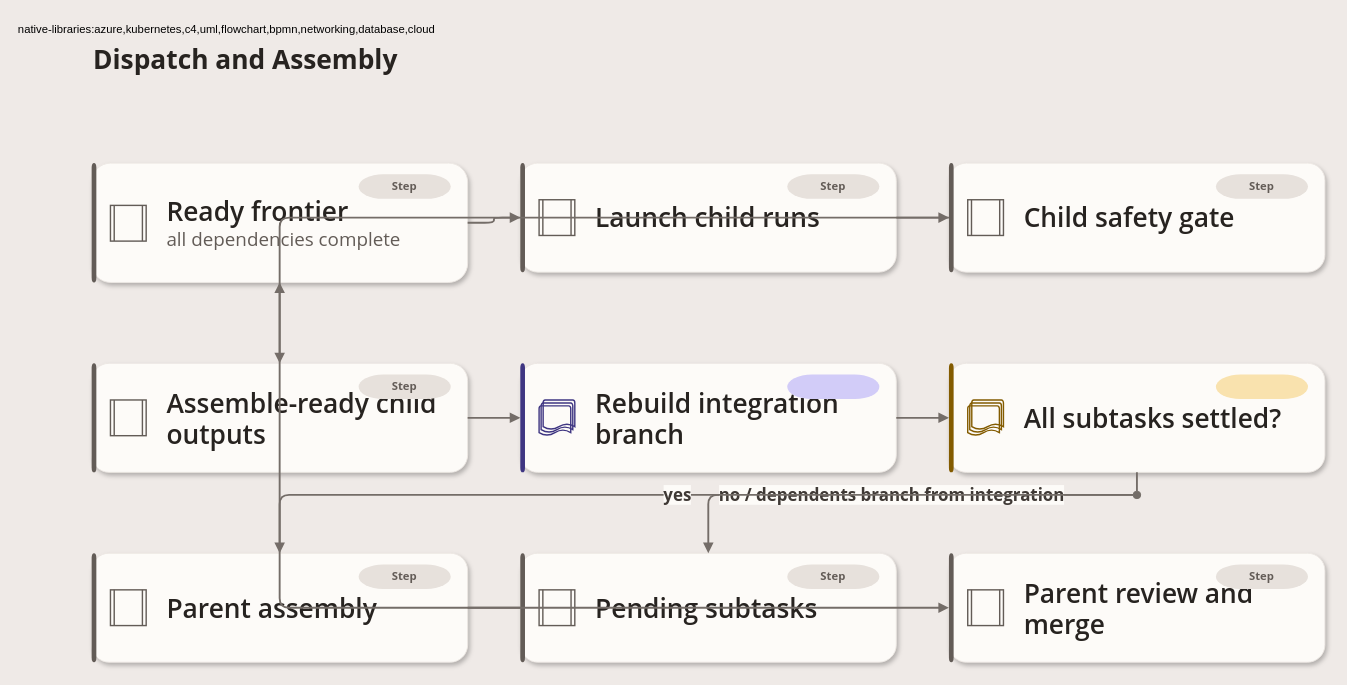
The diagram is 1347 pixels wide and 685 high, and some of its shapes have lost their labels. The shapes that lost their labels are listed below. From the top down, each one's centre as x and y in pixels, then its label:
the point at 833,386: Git
the point at 1261,386: Decision
